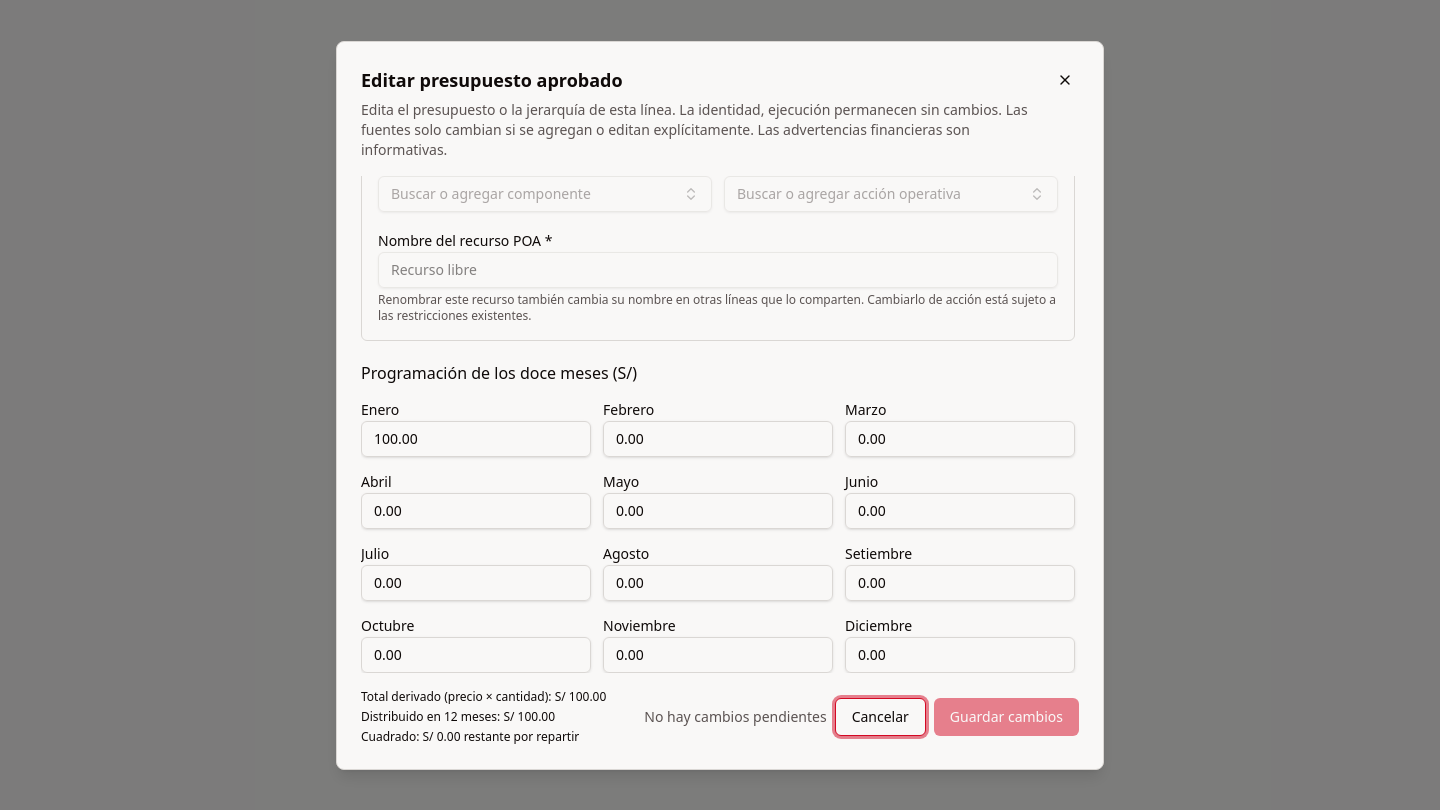
Scenario: approved amendment dialog › updates distribution on month changes, labels excess, and reports exact balance at zero
(page scrolled)
Replace the text in the field labelled "Febrero" with "0.01" at (718, 438), box [603,420,833,456]
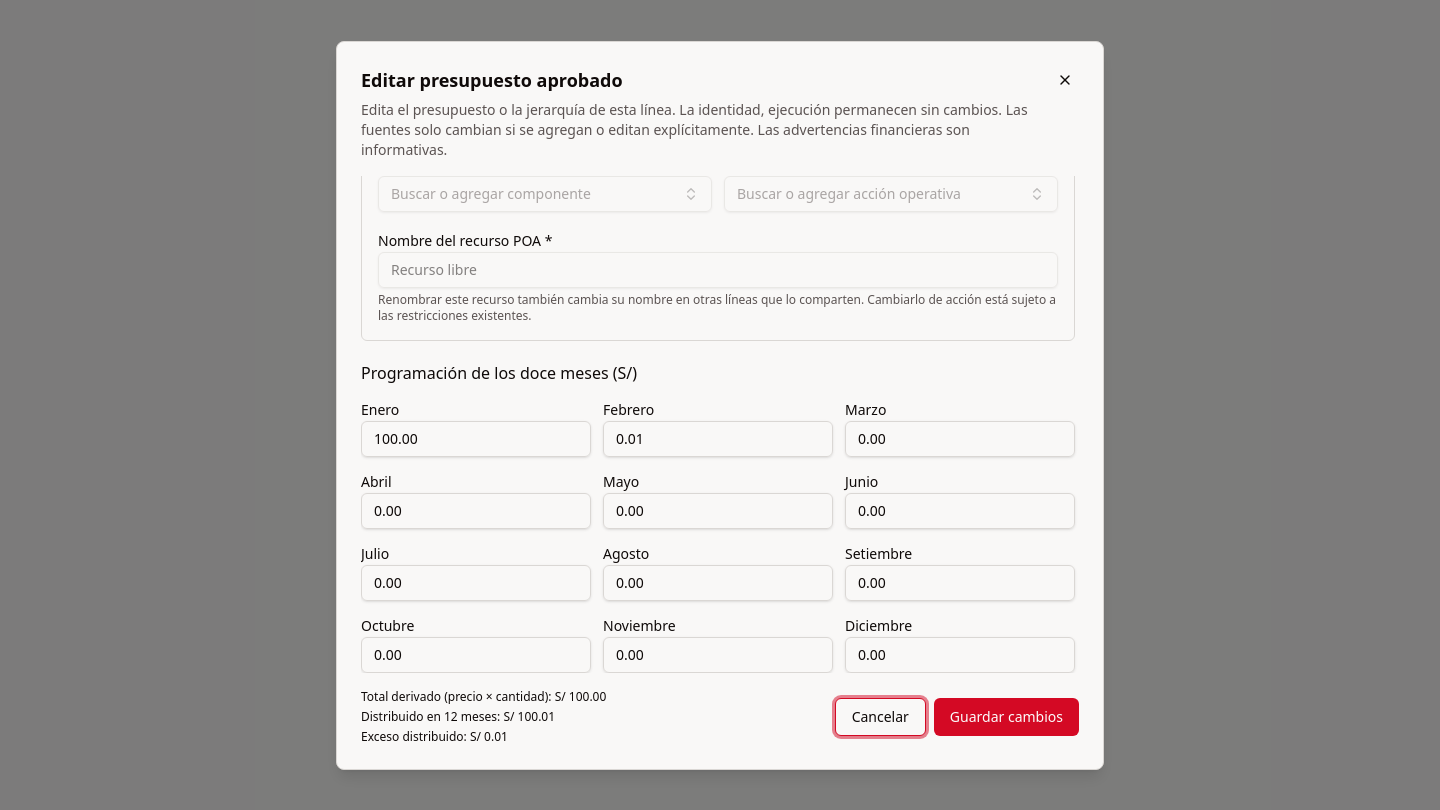
Check: the text "Distribuido en 12 meses: S/ 100.01" is shown, box [361,708,555,724]
Check: the text "Exceso distribuido: S/ 0.01" is shown, box [361,728,508,744]
Check: the text "restante por repartir" is gone
Replace the text in the field labelled "Febrero" with "0.00" at (718, 438), box [603,420,833,456]
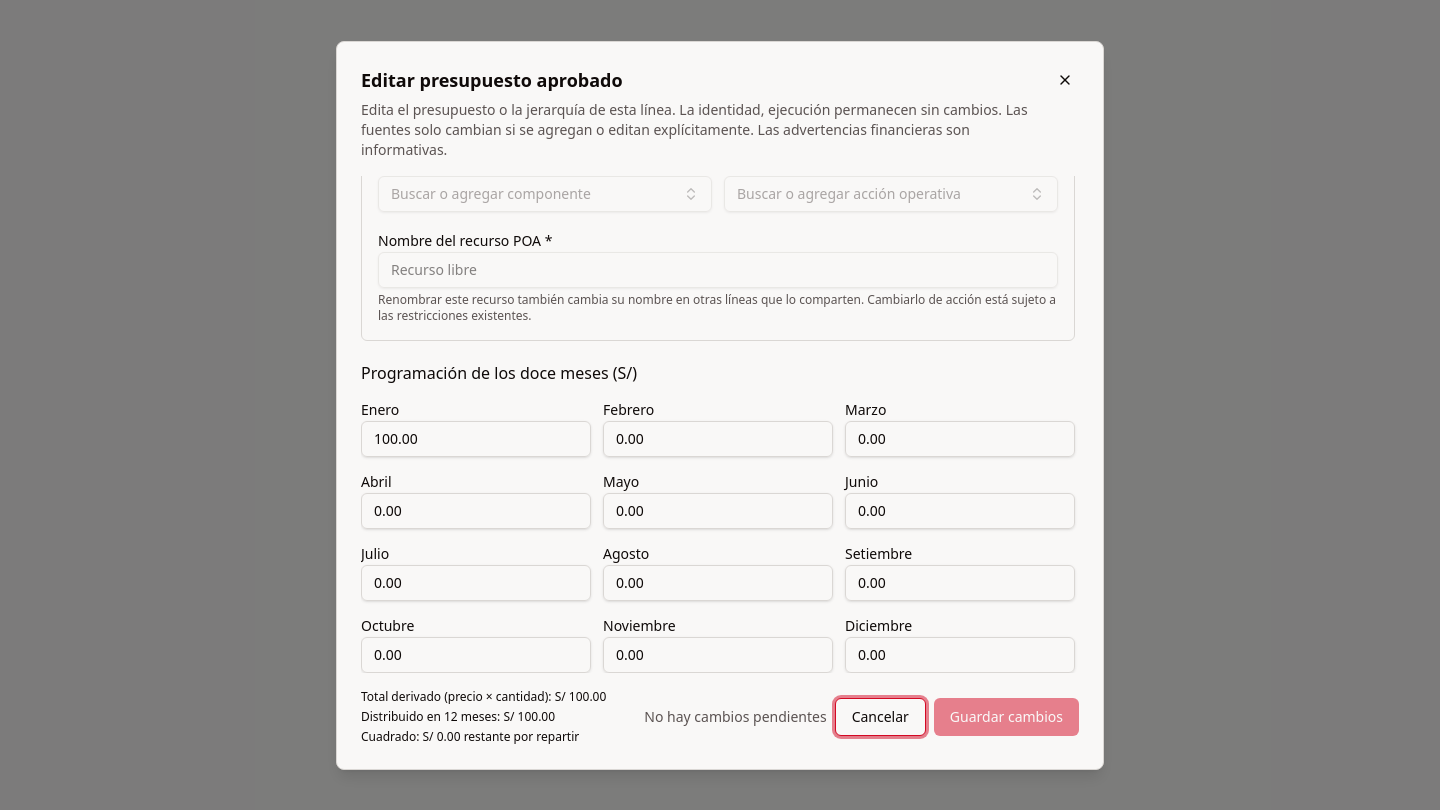
Check: the text "Cuadrado: S/ 0.00 restante por repartir" is shown, box [361,728,579,744]
